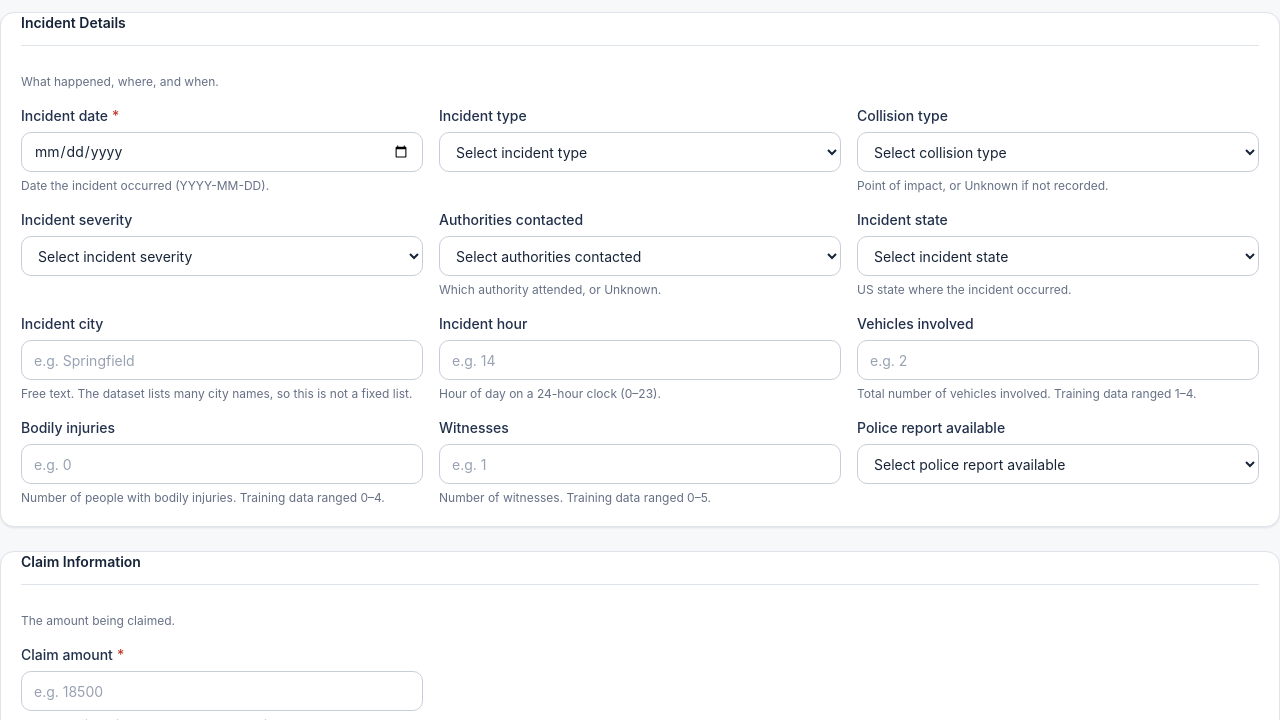
NewClaimPage › blocks submission when a numeric value is out of range
The image size is (1280, 720).
(page scrolled)
Type "27" into the number field labelled "Incident hour".
click(640, 360); type("27")  # box [439,340,841,380]
(page scrolled)
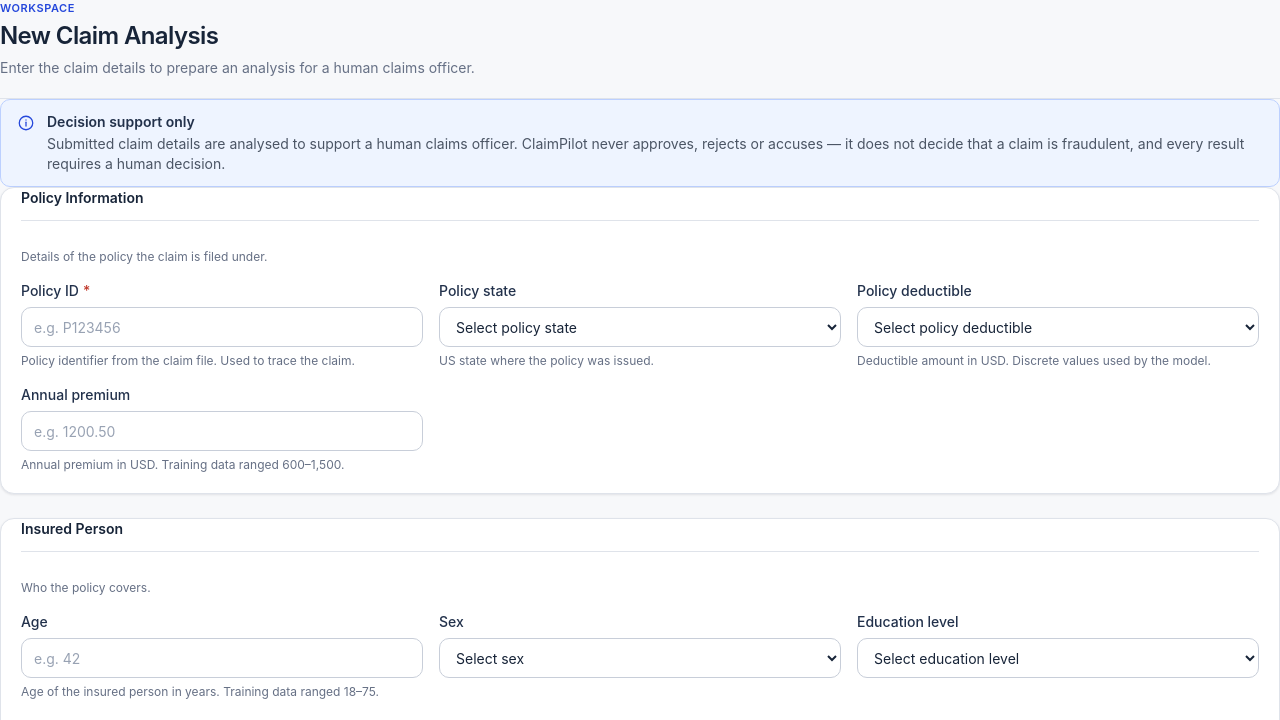
Type "POLICY-42" into the field labelled "Policy ID*".
click(222, 327); type("POLICY-42")  # box [21,307,423,347]
(page scrolled)
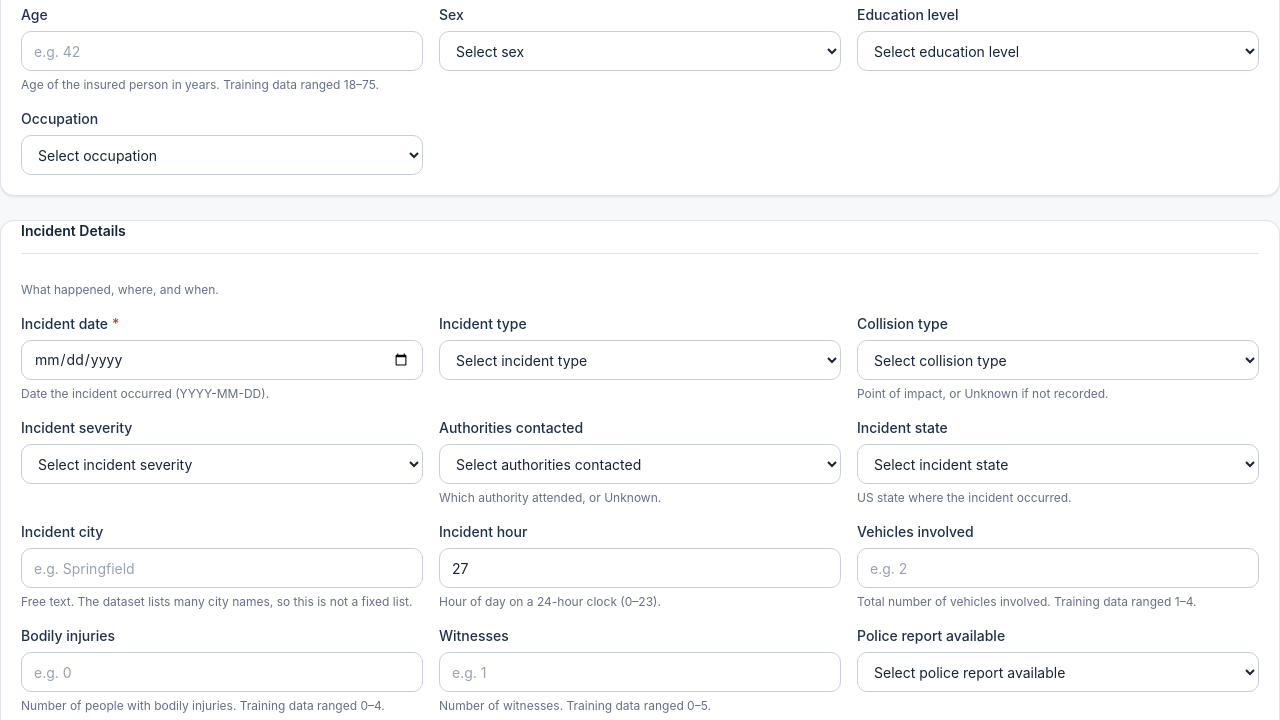
Type "2024-05-01" into the date field labelled "Incident date*".
click(222, 360); type("2024-05-01")  # box [21,340,423,380]
(page scrolled)
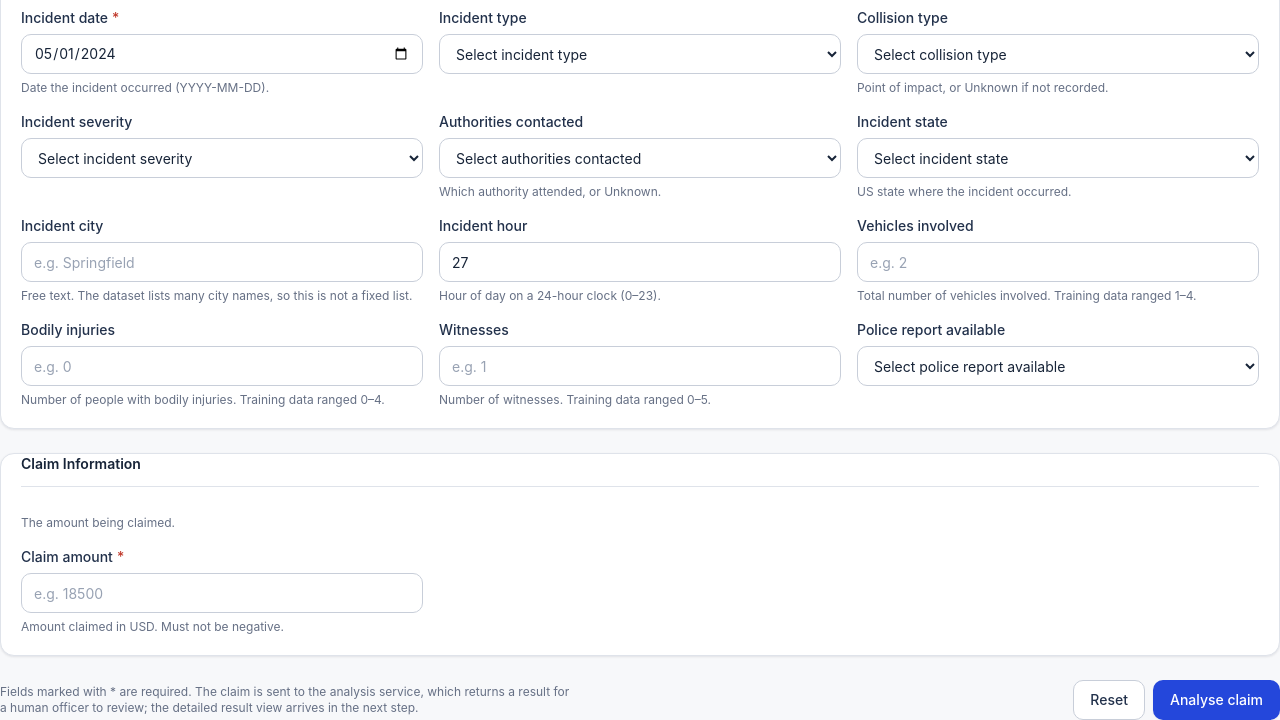
Type "18500" into the number field labelled "Claim amount*".
click(222, 593); type("18500")  # box [21,573,423,613]
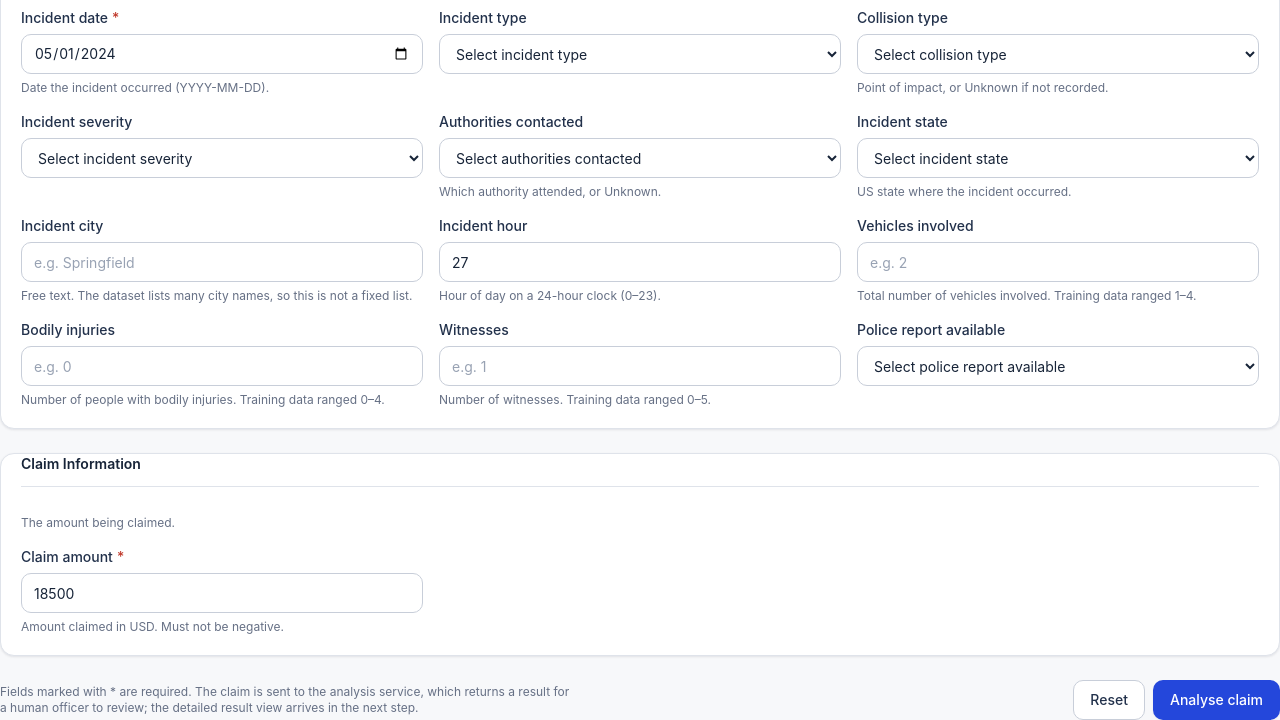
Click the button "Analyse claim".
click(1216, 700)  # box [1153,680,1279,719]
(page scrolled)
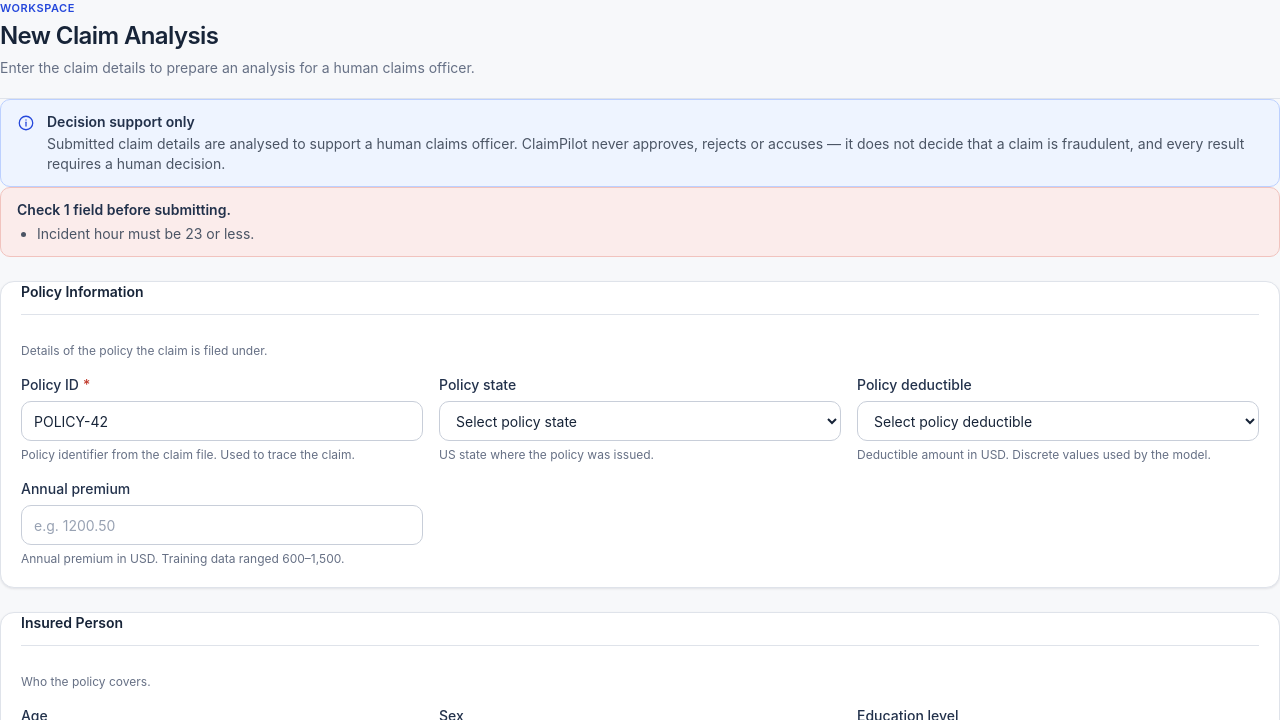
Expected: the list item "Incident hour must be 23 or less." is shown, [37,225,254,242]
